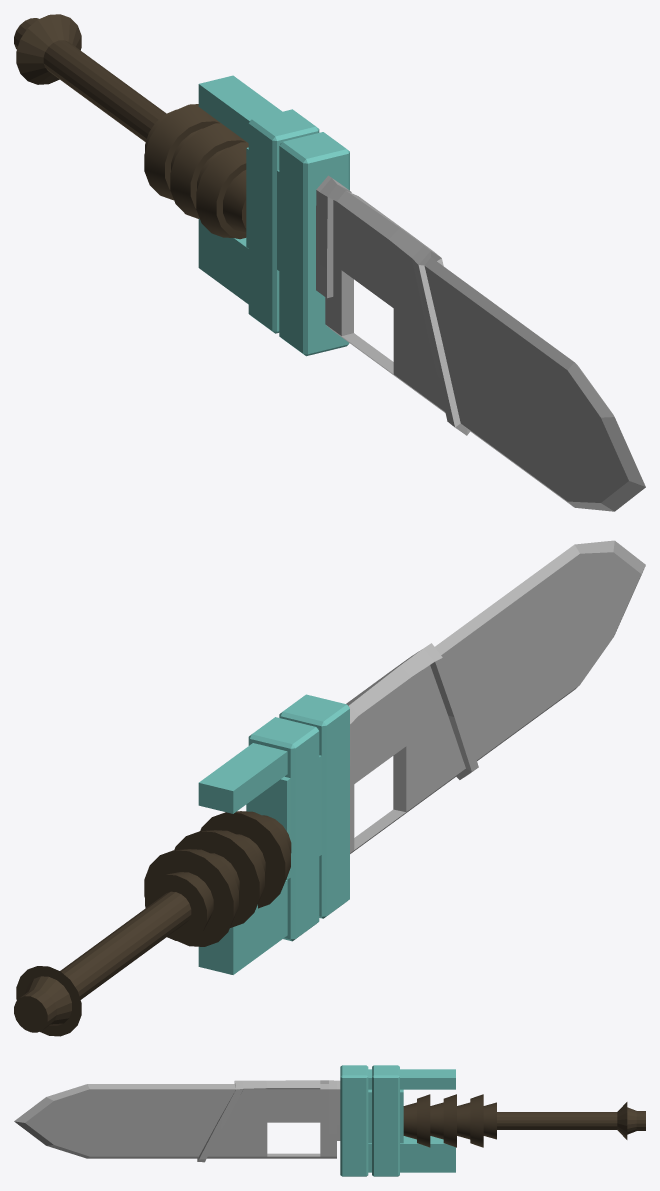
The model's file is Broadsword.FBX.
The picture shows the model from 3 angles, top to bottom: view 1: azimuth 30°, elevation 25°; view 2: azimuth 150°, elevation 25°; view 3: azimuth 270°, elevation 25°; orthographic projection. The views are drawn at different scales.
Visible parts, largest first — view 1: Sword, Hilt, Weapon Attachment, ArmProtector; view 2: Sword, Hilt, ArmProtector, Weapon Attachment; view 3: Sword, Hilt, ArmProtector, Weapon Attachment.
Boxes of the visible parts, x1=… form: Sword: x1=316, y1=175, x2=645, y2=511; Hilt: x1=14, y1=14, x2=248, y2=239; Weapon Attachment: x1=229, y1=98, x2=349, y2=356; ArmProtector: x1=198, y1=75, x2=319, y2=333; Sword: x1=346, y1=540, x2=645, y2=853; Hilt: x1=14, y1=811, x2=291, y2=1036; ArmProtector: x1=198, y1=717, x2=319, y2=974; Weapon Attachment: x1=231, y1=694, x2=349, y2=944; Sword: x1=14, y1=1080, x2=340, y2=1162; Hilt: x1=403, y1=1094, x2=645, y2=1147; ArmProtector: x1=372, y1=1065, x2=455, y2=1176; Weapon Attachment: x1=340, y1=1065, x2=424, y2=1176.
Size of the model in its own units: 0.1417 by 0.2991 by 1.69.
